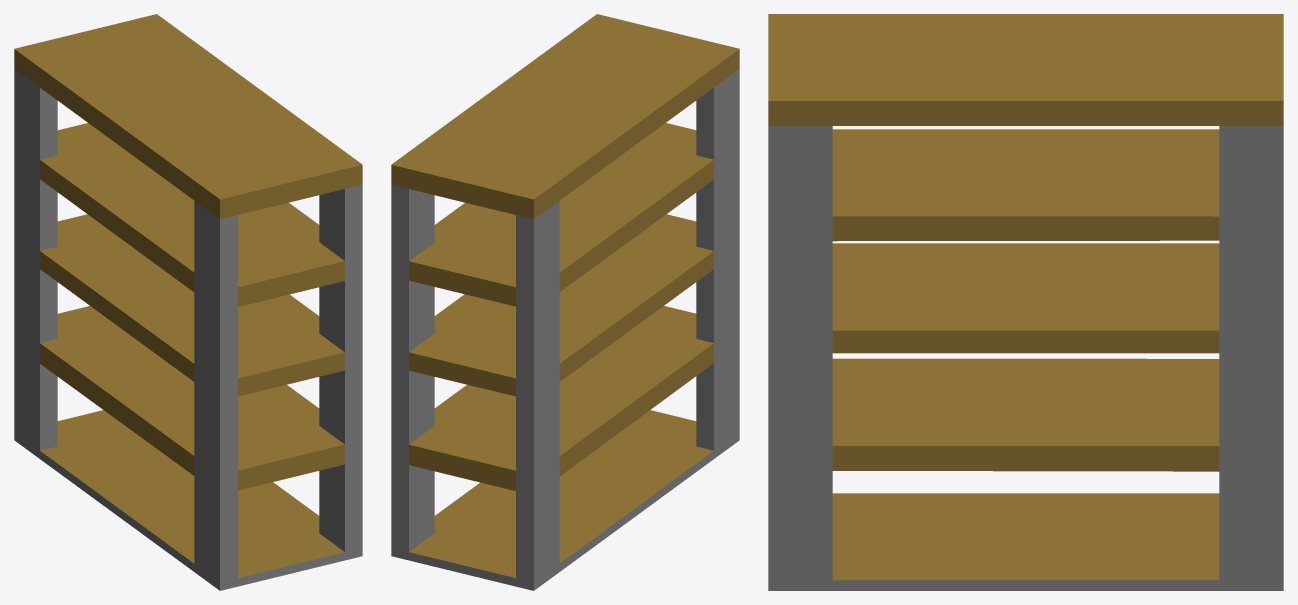
The model's file is Regal.fbx.
The picture shows the model from 3 angles, left to right: view 1: azimuth 30°, elevation 25°; view 2: azimuth 150°, elevation 25°; view 3: azimuth 270°, elevation 25°; orthographic projection. The views are drawn at different scales.
Visible parts, largest first — view 1: Cube; view 2: Cube; view 3: Cube.
Part boxes in pixels (x1,y1,x2,y2): Cube: [14, 14, 362, 590]; Cube: [391, 14, 739, 590]; Cube: [768, 14, 1283, 590].
Bounding box in the file's own units: 0.8 × 2.1 × 2.
